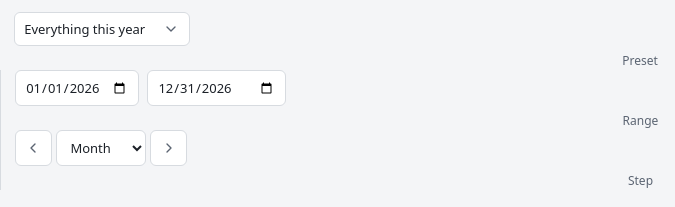
Test case: DateRangeFilterComponent › sets the range to null for All dates
Click the button with class "date-range-filter__trigger". click: click(102, 29)
box: [14,12,190,46]
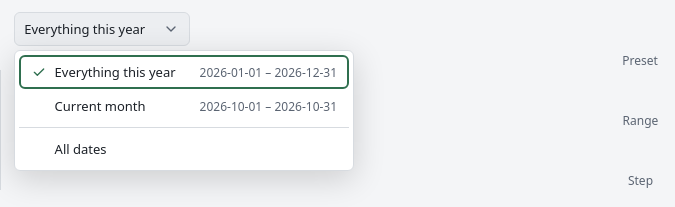
Click the menu item with class "date-range-filter__item" showing "All dates". click: click(81, 149)
box: [19,132,349,166]
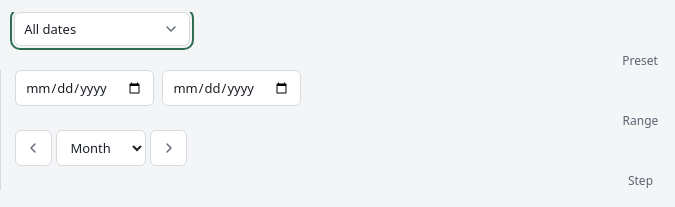
expect the button with class "date-range-filter__trigger" reads "All dates": met, box [14,12,190,46]
